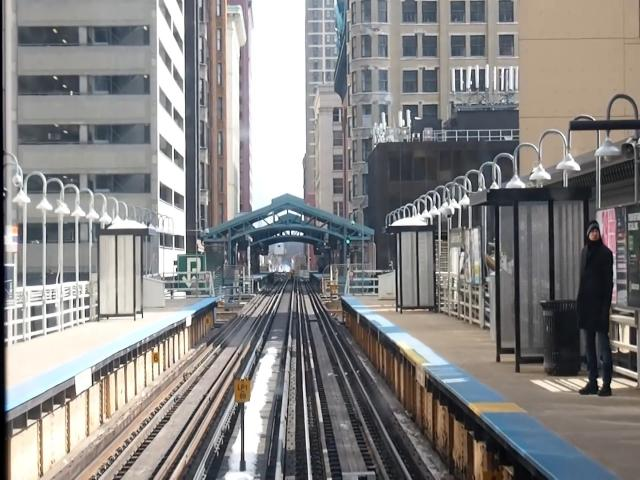signal light: (346, 239, 353, 261)
